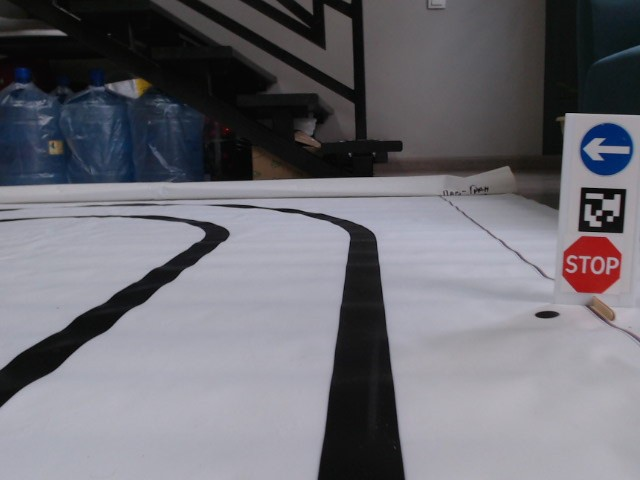Stop: (561, 234, 624, 297)
